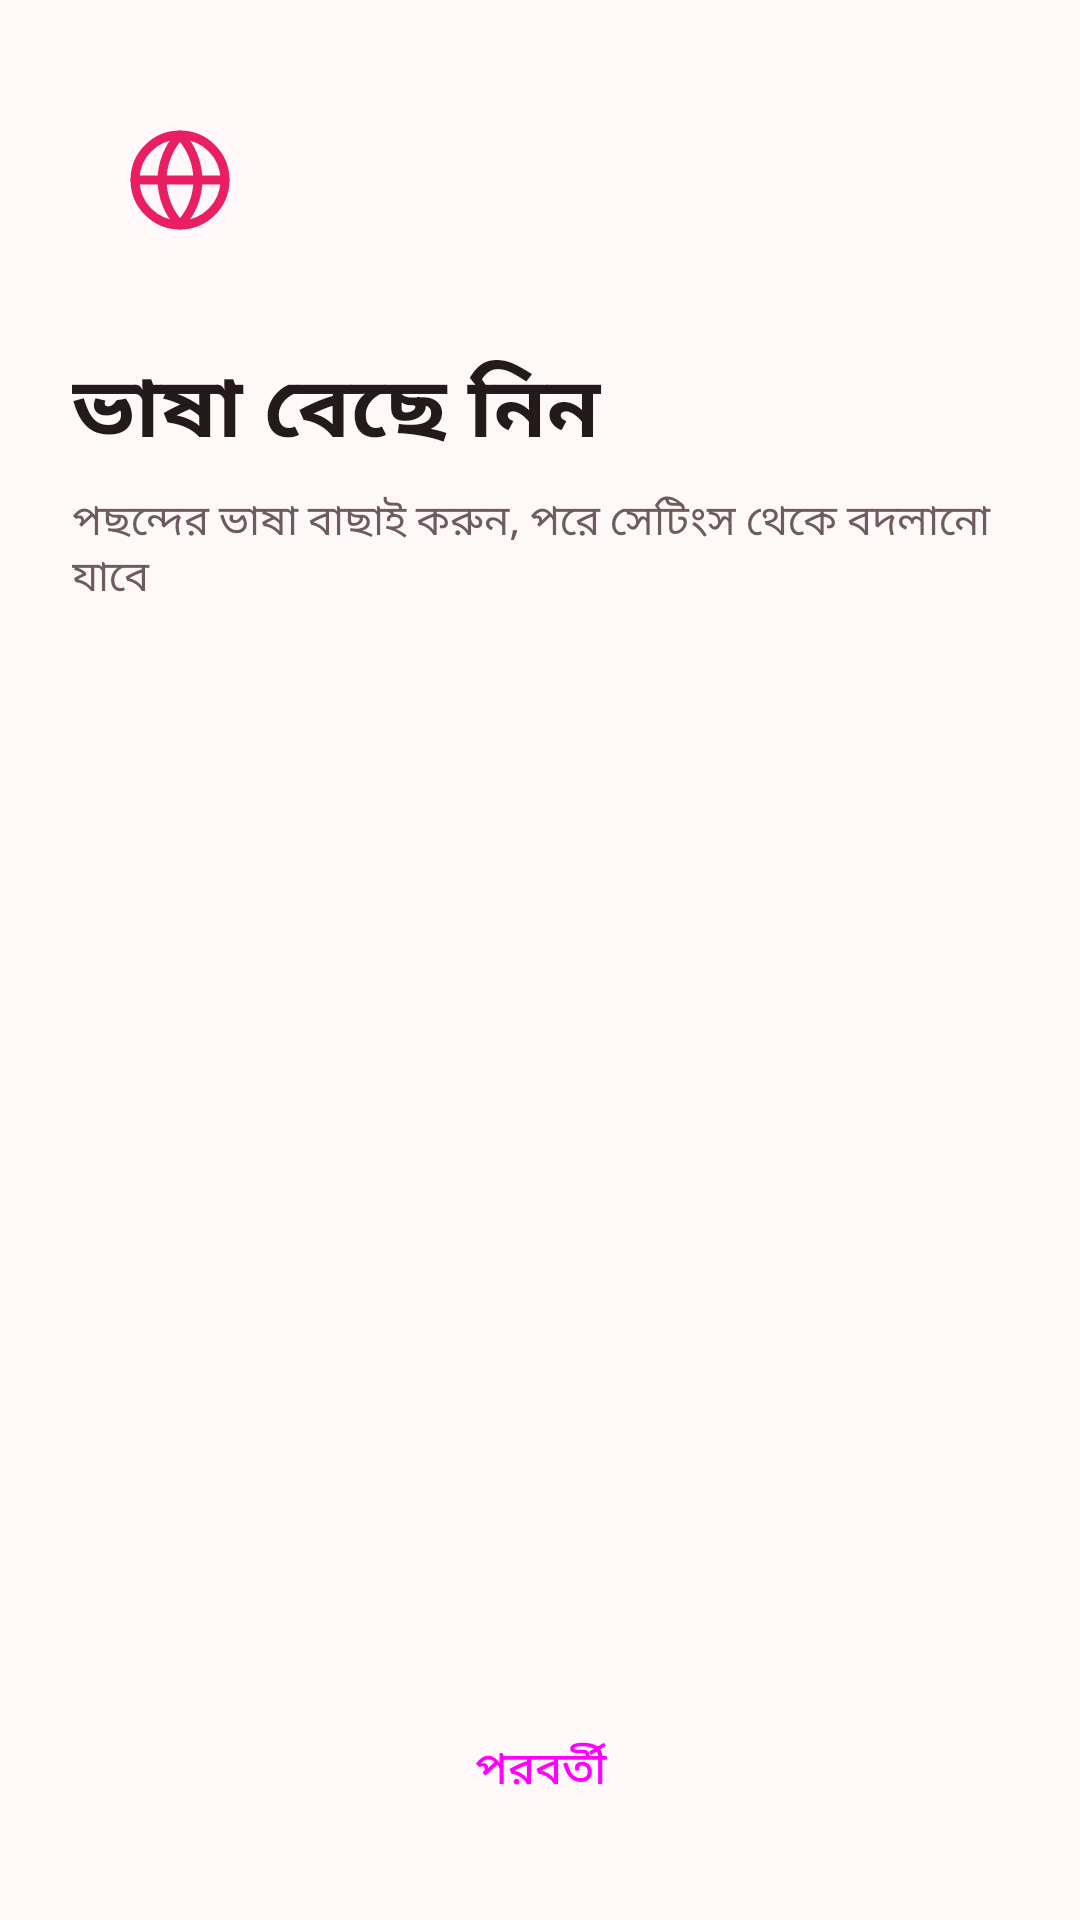

Screen size 1080w x 1920h. Icon name, then its center in pixels as (x=x, y=y):
language: (x=180, y=180)
